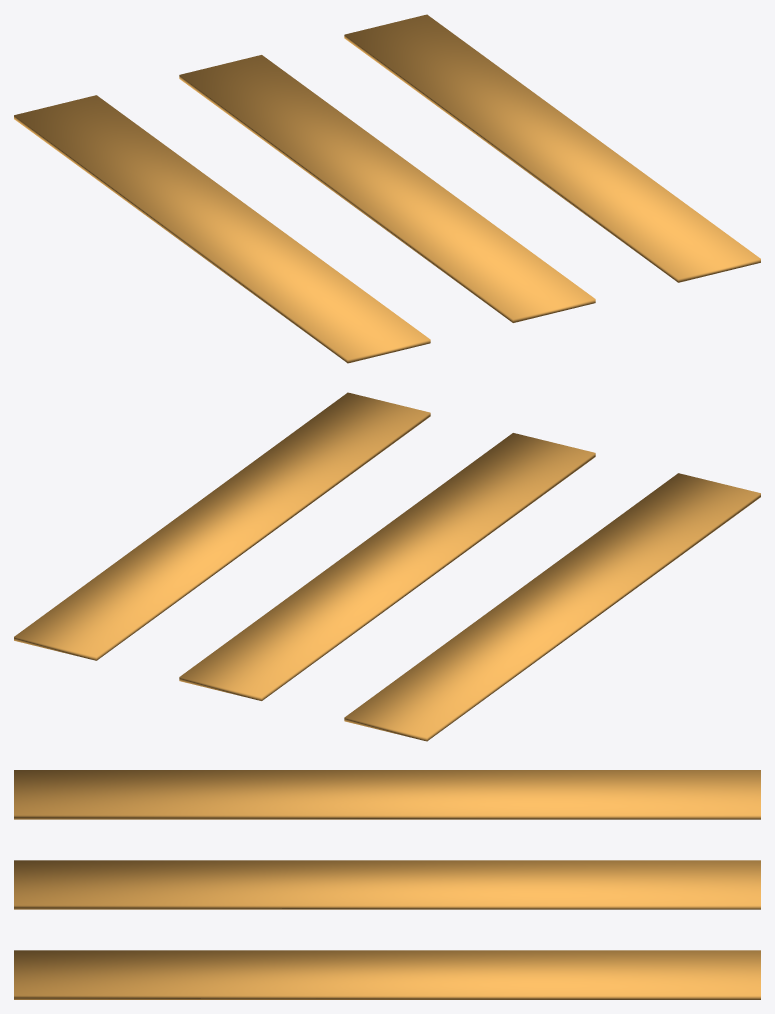
The model's file is 237_L115_FaultF2_FlashVia_Overlay.glb.
3 views of the same model, one above another, from view 1: azimuth 30°, elevation 25°; view 2: azimuth 150°, elevation 25°; view 3: azimuth 270°, elevation 25° (orthographic). The views are drawn at different scales.
Parts seen in each view (by area): view 1: 237_L115_FaultF2_FlashVia_Overlay_0_Status_Amber; view 2: 237_L115_FaultF2_FlashVia_Overlay_0_Status_Amber; view 3: 237_L115_FaultF2_FlashVia_Overlay_0_Status_Amber.
Part boxes in pixels (box(x1,y1,x2,y2)): 237_L115_FaultF2_FlashVia_Overlay_0_Status_Amber: box(14, 14, 760, 363); 237_L115_FaultF2_FlashVia_Overlay_0_Status_Amber: box(14, 392, 760, 741); 237_L115_FaultF2_FlashVia_Overlay_0_Status_Amber: box(14, 770, 760, 999).
Bounding box in the file's own units: 0.01 × 9e-05 × 0.014.
